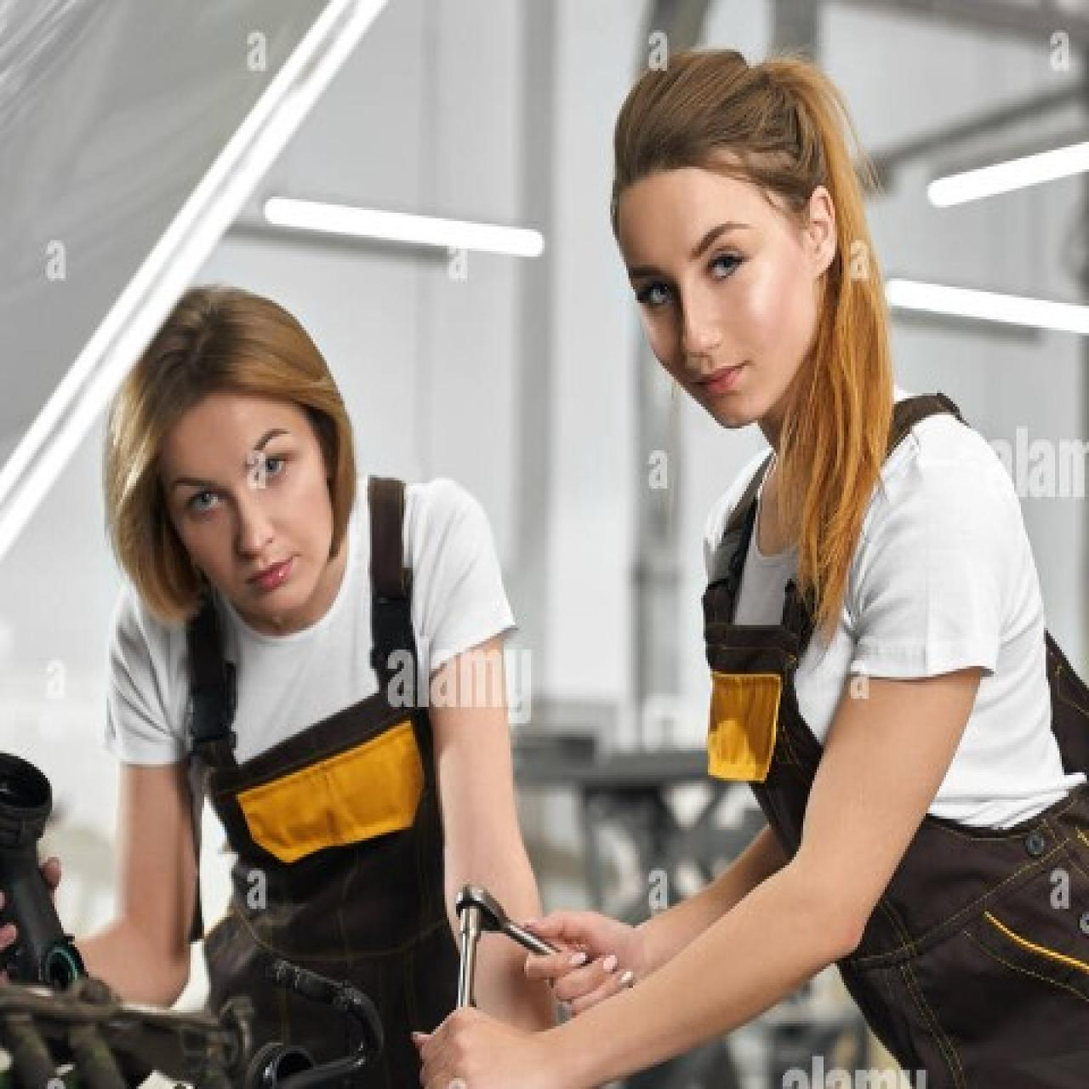NO_Safety_Vest: (720, 430, 1089, 1053), (114, 505, 493, 1044)
Person: (493, 34, 1089, 1089), (91, 277, 558, 1089)
